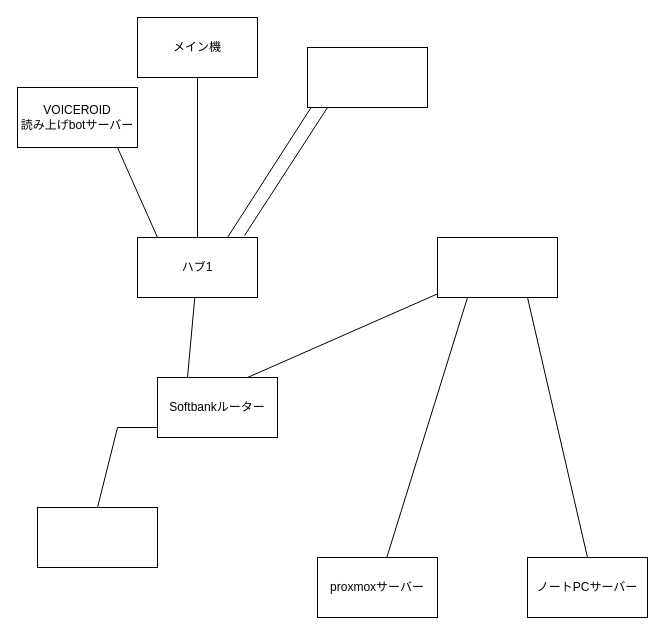
This 665x635 diagram has some shape labels left out. The centre of each missing label's shape, as x and y in pixels:
"NTT-ONU" goes at (97,537).
"ハブ2" goes at (497,267).
"メインサーバー" goes at (367,77).
